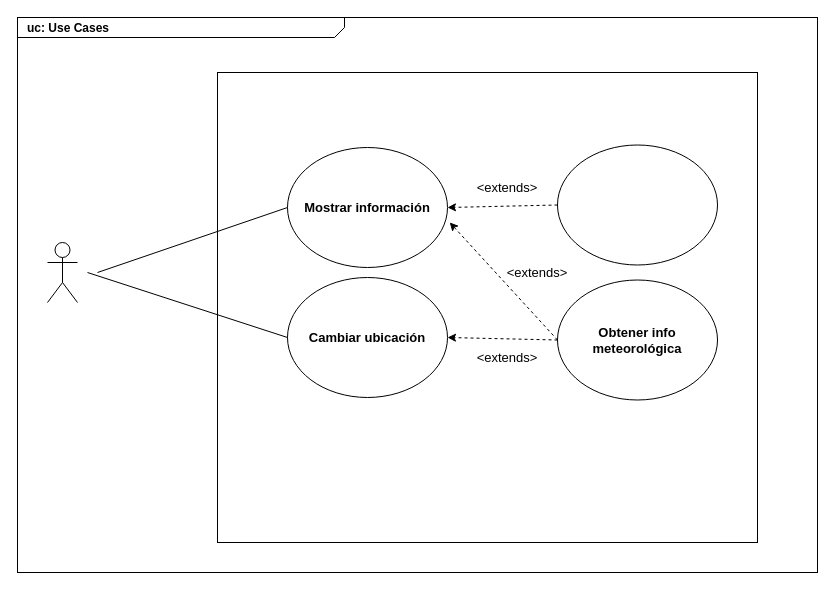
This 835x590 diagram has some shape labels left out. The shapes that lost their labels are listed below. From the top down, each one's box as (x1, y1, x2, y2) in pixels, then its label:
(556, 144, 718, 265): Obtener fecha y hora
(46, 242, 78, 302): Actor
